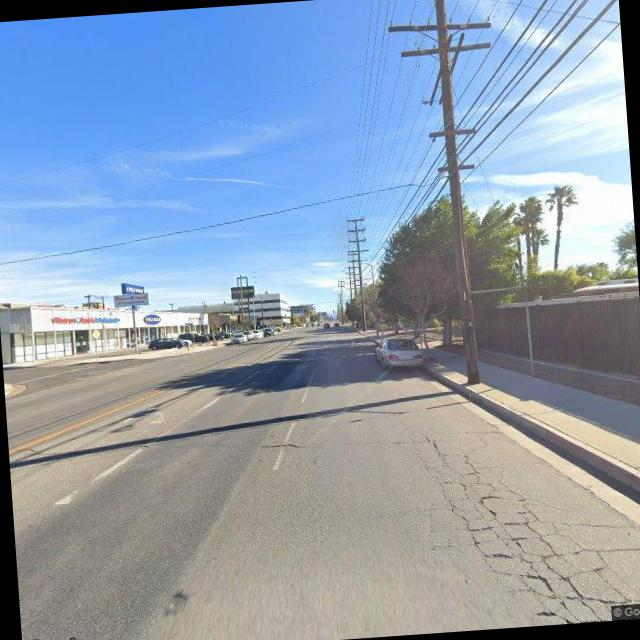crack: (406, 413, 640, 630)
